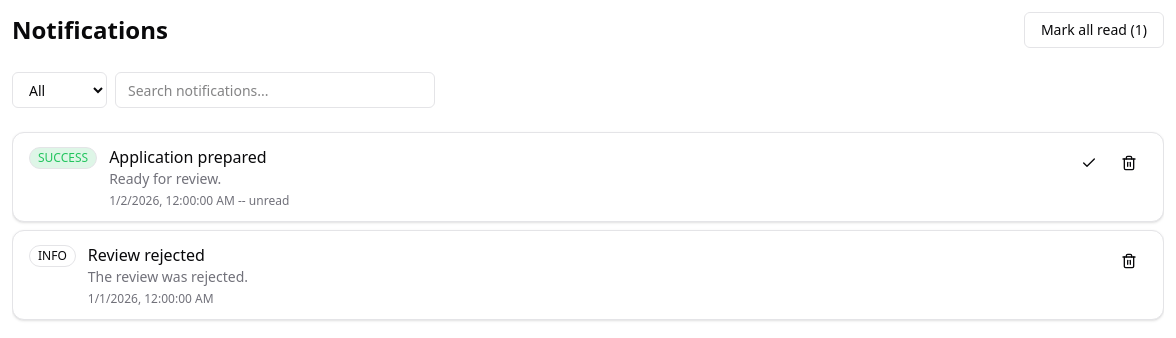
Test case: NotificationsPage › filters to unread only
The width and height of the screenshot is (1176, 338).
Check: the text "Application prepared" is shown, box [109, 146, 267, 168]
Select "Unread" in the dropdown: (60, 90) [12, 72, 107, 108]
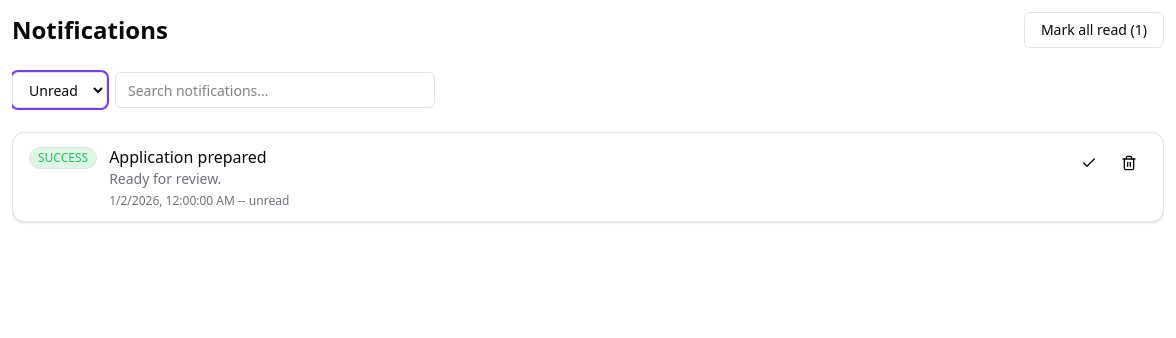
Check: the text "Application prepared" is shown, box [109, 146, 267, 168]
Check: the text "Review rejected" is gone
